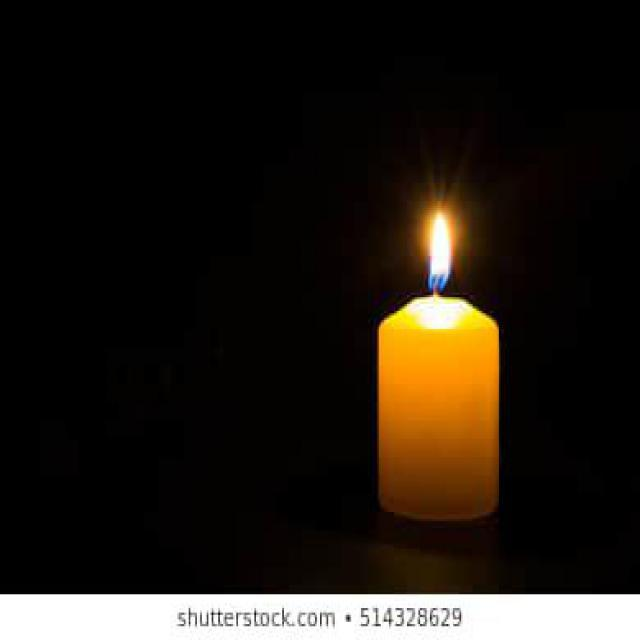Fire: (427, 212, 454, 290)
